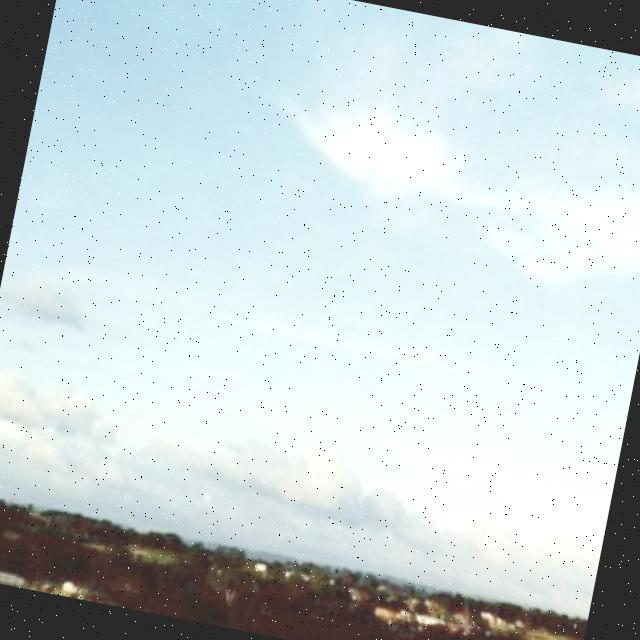Sc: (1, 1, 640, 586)
